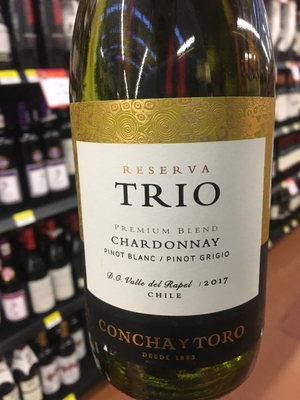trio chardonnay: (61, 19, 286, 396)
